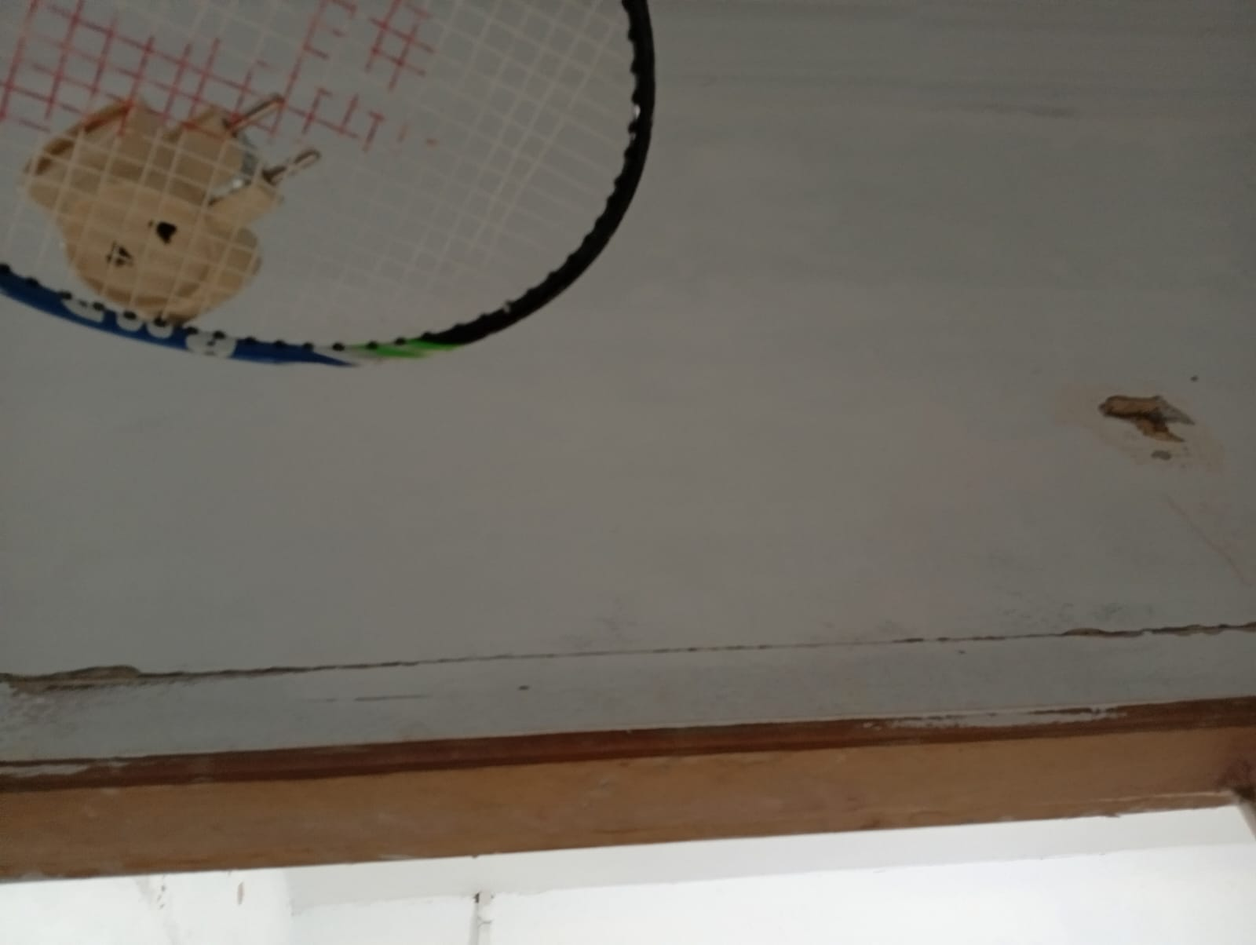Colokan: (20, 65, 360, 374)
